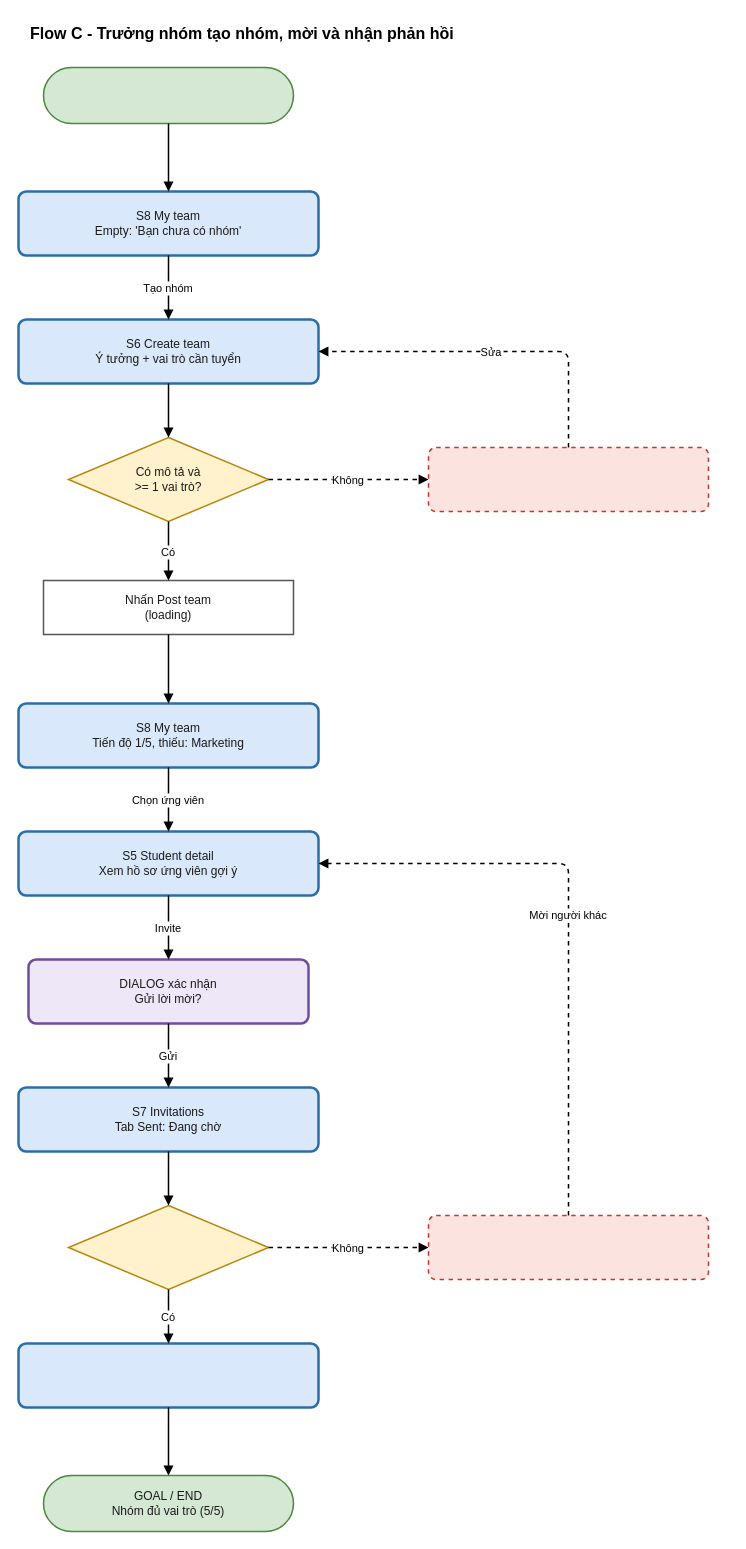
The diagram is 746 pixels wide and 1549 high, and some of its shapes have lost their labels. Each missing label, with the box of its shape:
LỖI: nêu rõ trường thiếu, nút Post team vẫn bấm được: (427, 446, 709, 512)
S9 Chat Chào thành viên mới: (17, 1342, 319, 1408)
START Có ý tưởng, cần ghép nhóm: (42, 66, 294, 124)
TỪ CHỐI / HẾT HẠN: thông báo + gợi ý ứng viên khác: (427, 1214, 709, 1280)
Ứng viên chấp nhận?: (67, 1204, 269, 1290)
